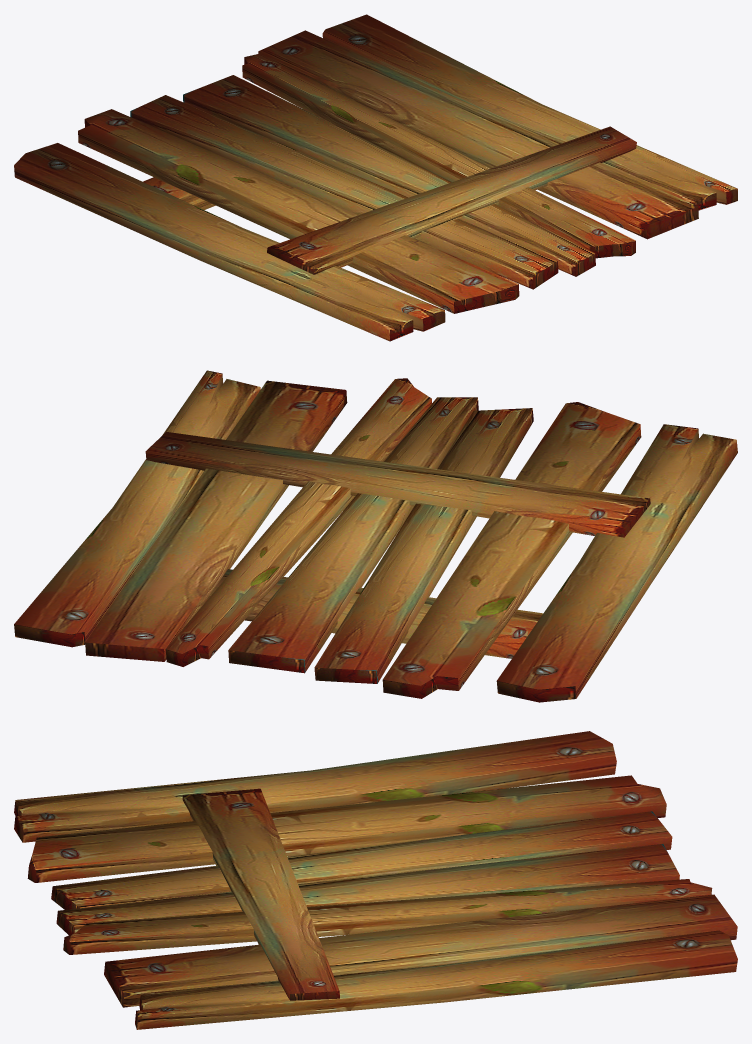
Rendered from muban01.FBX.
The picture shows the model from 3 angles, top to bottom: view 1: azimuth 30°, elevation 25°; view 2: azimuth 150°, elevation 25°; view 3: azimuth 270°, elevation 25°; orthographic projection. The views are drawn at different scales.
Parts seen in each view (by area): view 1: Object023; view 2: Object023; view 3: Object023.
Part boxes in pixels (x1,y1,x2,y2): Object023: (14, 14, 737, 341); Object023: (14, 370, 737, 702); Object023: (14, 731, 737, 1029).
Bounding box in the file's own units: 29188 × 1509 × 31493.
